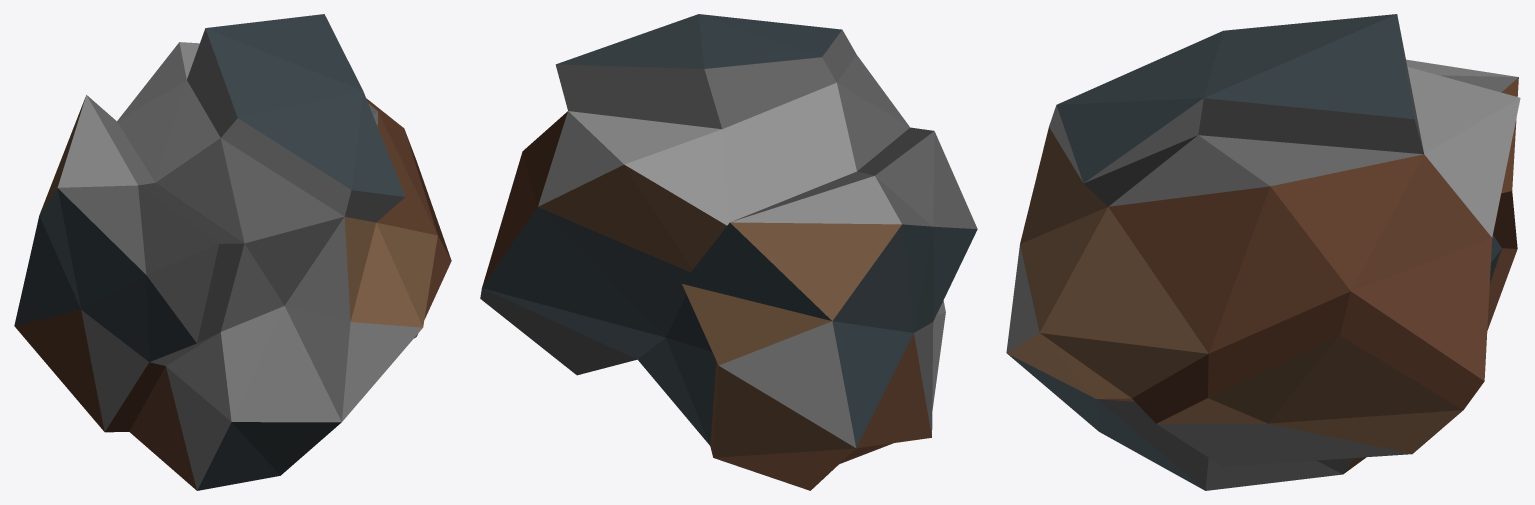
The model's file is Asteroid2.fbx.
3 renders of one model, left to right at view 1: azimuth 30°, elevation 25°; view 2: azimuth 150°, elevation 25°; view 3: azimuth 270°, elevation 25°, orthographic. The views are drawn at different scales.
Parts seen in each view (by area): view 1: Asteroid2; view 2: Asteroid2; view 3: Asteroid2.
Part boxes in pixels (x1=…): Asteroid2: x1=14, y1=14, x2=451, y2=490; Asteroid2: x1=480, y1=14, x2=977, y2=490; Asteroid2: x1=1006, y1=14, x2=1520, y2=490.
Size of the model in its own units: 1026 by 1073 by 1026.
